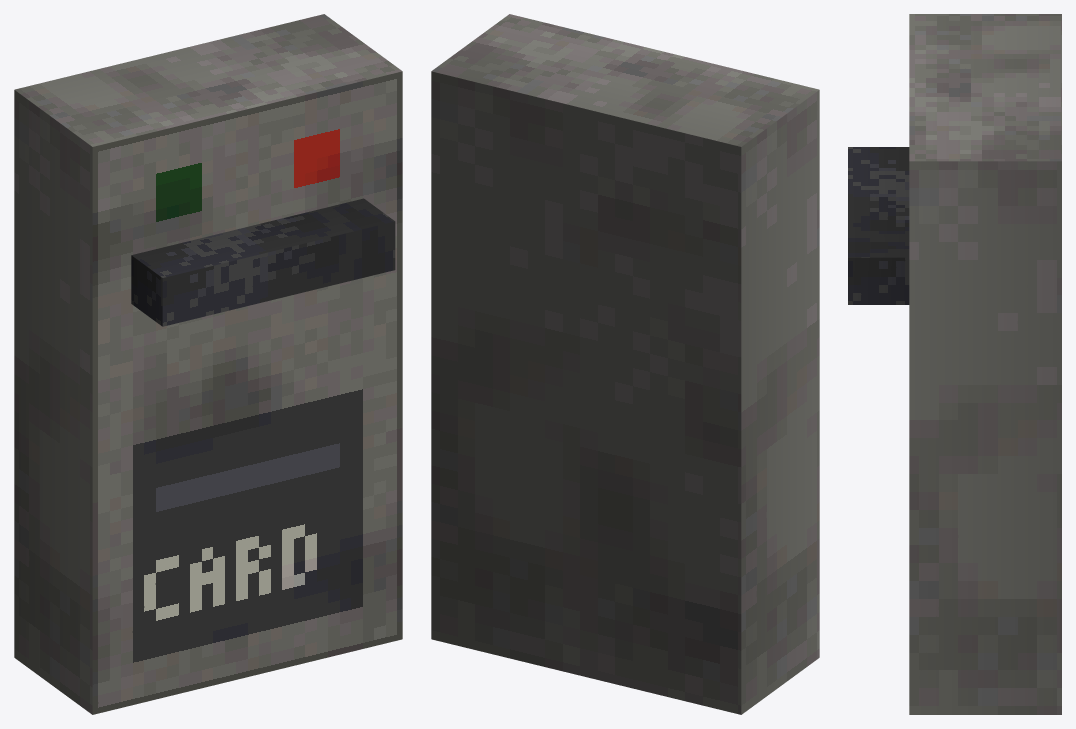
File: card_reader_model.glb
3 views of the same model, side by side, from view 1: azimuth 30°, elevation 25°; view 2: azimuth 150°, elevation 25°; view 3: azimuth 270°, elevation 25° (orthographic). The views are drawn at different scales.
Visible parts, largest first — view 1: card_reader; view 2: card_reader; view 3: card_reader.
Boxes of the visible parts, bbox=[...] form: card_reader: bbox=[14, 14, 402, 714]; card_reader: bbox=[431, 14, 819, 714]; card_reader: bbox=[848, 14, 1061, 714].
Size of the model in its own units: 0.08 by 0.14 by 0.049.
Materials: 1 (1 with a texture image).
